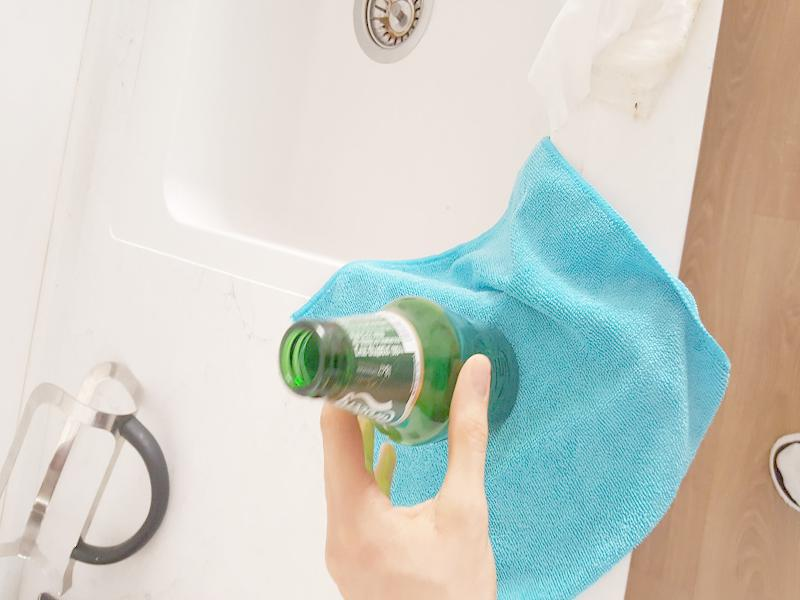Beer: (282, 298, 521, 434)
